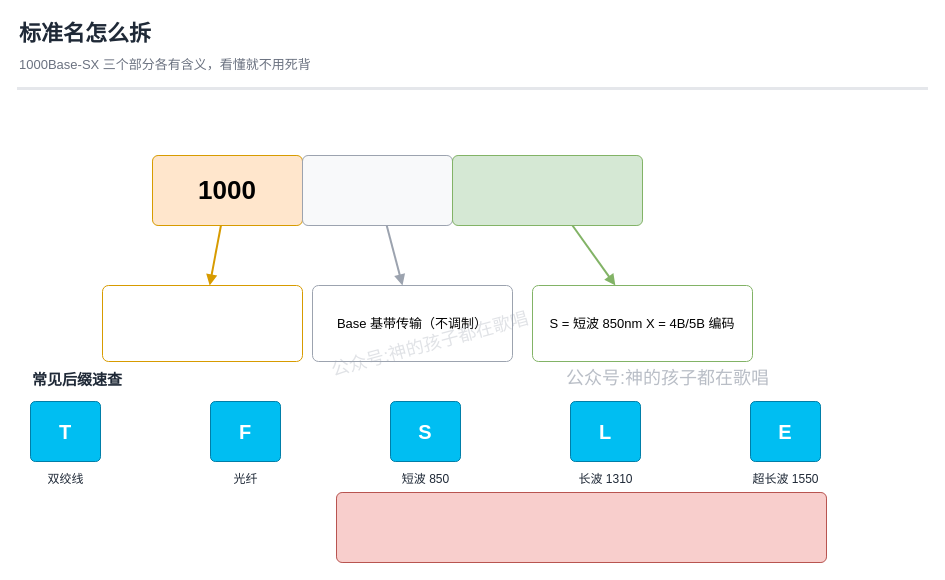
Image size: 945x580. Some labels were removed from this diagram. The centre of each missing label's shape, as x and y in pixels:
"-SX" belongs at point 547,190.
"Base" belongs at point 377,190.
"注意：SX 配的是多模光纤，不是单模 —— 有些资料写成单模，是错的" belongs at point 581,527.
"速率 1000 Mbps" belongs at point 202,323.
